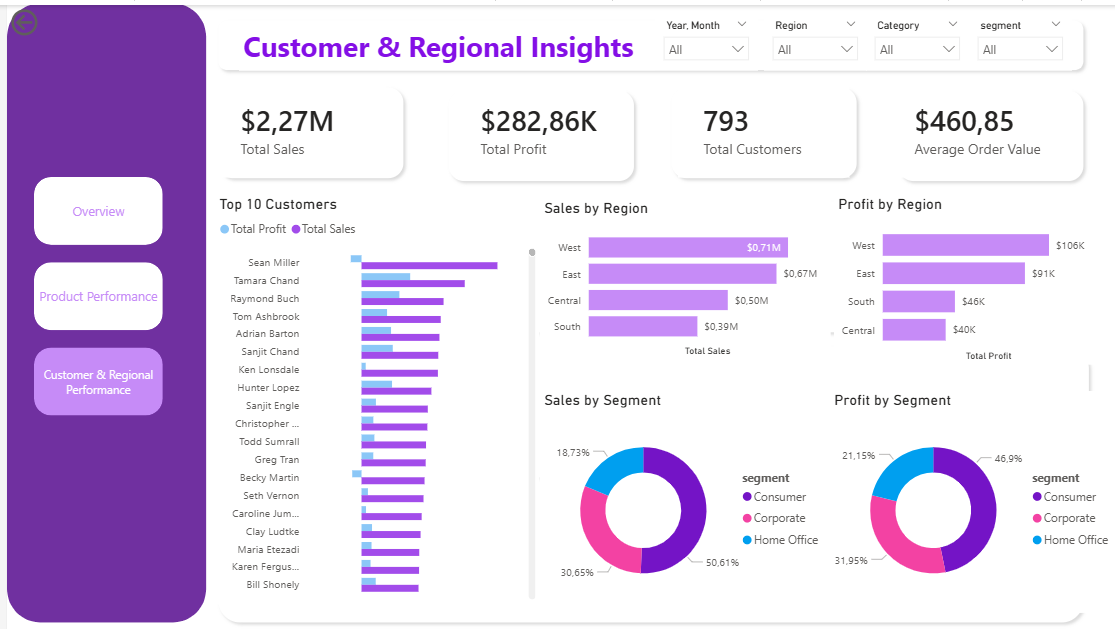

What the dashboard file says about the page in this screenshot:
{"tool":"powerbi","page":{"name":"Customer & Regional Performance","canvas":[1280,720],"ordinal":2},"visuals":[{"type":"textbox","box":[266.6,20,478.3,55.9],"z":0},{"type":"slicer","title":"Sales Over Time","fields":{"Values":["superstore_db orders.order_date.Variation.Date Hierarchy.Year","superstore_db orders.order_date.Variation.Date Hierarchy.Month"]},"box":[744.8,12,117.8,63.9],"z":1000},{"type":"slicer","title":"Sales Over Time","fields":{"Values":["superstore_db products.category"]},"box":[987.5,12,117.8,63.9],"z":2000},{"type":"slicer","title":"Sales Over Time","fields":{"Values":["superstore_db orders.region"]},"box":[869.6,12,117.8,63.9],"z":3000},{"type":"slicer","title":"Sales Over Time","fields":{"Values":["superstore_db customers.segment"]},"box":[1105.3,12,117.8,63.9],"z":4000},{"type":"pageNavigator","box":[31,197.7,148.8,275.6],"z":5000},{"type":"cardVisual","fields":{"Data":["superstore_db customers.Total Customers"]},"box":[770.8,86.9,196.7,110.8],"z":6000},{"type":"cardVisual","fields":{"Data":["superstore_db order_items.Average Order Value"]},"box":[1013.4,86.9,209.7,110.8],"z":7000},{"type":"cardVisual","fields":{"Data":["superstore_db order_items.Total Profit"]},"box":[514.2,86.9,196.7,110.8],"z":8000},{"type":"cardVisual","fields":{"Data":["superstore_db order_items.Total Sales"]},"box":[238.6,86.9,196.7,110.8],"z":9000},{"type":"barChart","title":"Profit by Region","fields":{"Category":["superstore_db orders.region"],"Y":["superstore_db order_items.Total Profit"]},"box":[950.2,218.3,304.5,195.3],"z":10000},{"type":"donutChart","title":"Sales by Segment","fields":{"Category":["superstore_db customers.segment"],"Y":["superstore_db order_items.Total Sales"]},"box":[612.4,443.5,334.4,255.1],"z":11000},{"type":"clusteredBarChart","title":"Top 10 Customers","fields":{"Category":["superstore_db customers.customer_name"],"Y":["superstore_db order_items.Total Profit","superstore_db order_items.Total Sales"]},"box":[239,218.3,373.4,469.9],"z":12000},{"type":"barChart","title":"Sales by Region","fields":{"Category":["superstore_db orders.region"],"Y":["superstore_db order_items.Total Sales"]},"box":[612.4,222.9,334.4,185],"z":13000},{"type":"donutChart","title":"Profit by Segment","fields":{"Category":["superstore_db customers.segment"],"Y":["superstore_db order_items.Total Profit"]},"box":[945.6,443.5,334.4,255.1],"z":14000},{"type":"actionButton","box":[0,0,100,40],"z":15000}]}

Visuals, with their boxes in screenshot pixels (x1, y1, x2, y2), scaled from the page's 1280x720 canvas onto the 1115x629 screenshot:
textbox: detection(232, 17, 649, 66)
"Sales Over Time" slicer: detection(649, 10, 751, 66)
"Sales Over Time" slicer: detection(860, 10, 963, 66)
"Sales Over Time" slicer: detection(758, 10, 860, 66)
"Sales Over Time" slicer: detection(963, 10, 1065, 66)
pageNavigator: detection(27, 173, 157, 413)
cardVisual - superstore_db customers.Total Customers: detection(671, 76, 843, 173)
cardVisual - superstore_db order_items.Average Order Value: detection(883, 76, 1065, 173)
cardVisual - superstore_db order_items.Total Profit: detection(448, 76, 619, 173)
cardVisual - superstore_db order_items.Total Sales: detection(208, 76, 379, 173)
"Profit by Region" barChart: detection(828, 191, 1093, 361)
"Sales by Segment" donutChart: detection(533, 387, 825, 610)
"Top 10 Customers" clusteredBarChart: detection(208, 191, 533, 601)
"Sales by Region" barChart: detection(533, 195, 825, 356)
"Profit by Segment" donutChart: detection(824, 387, 1114, 610)
actionButton: detection(0, 0, 87, 35)
